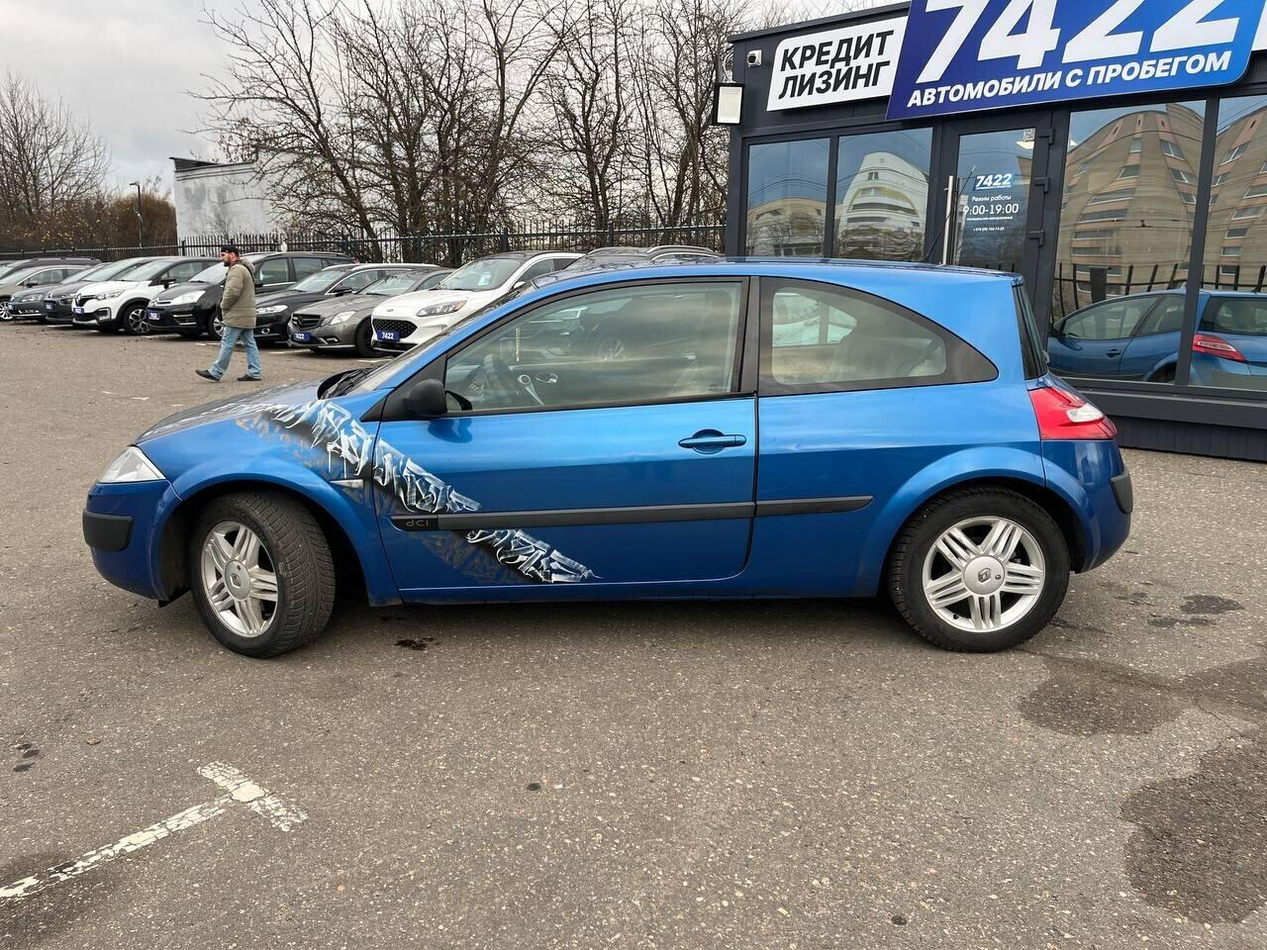Megane_2002-2006: (79, 251, 1140, 678)
